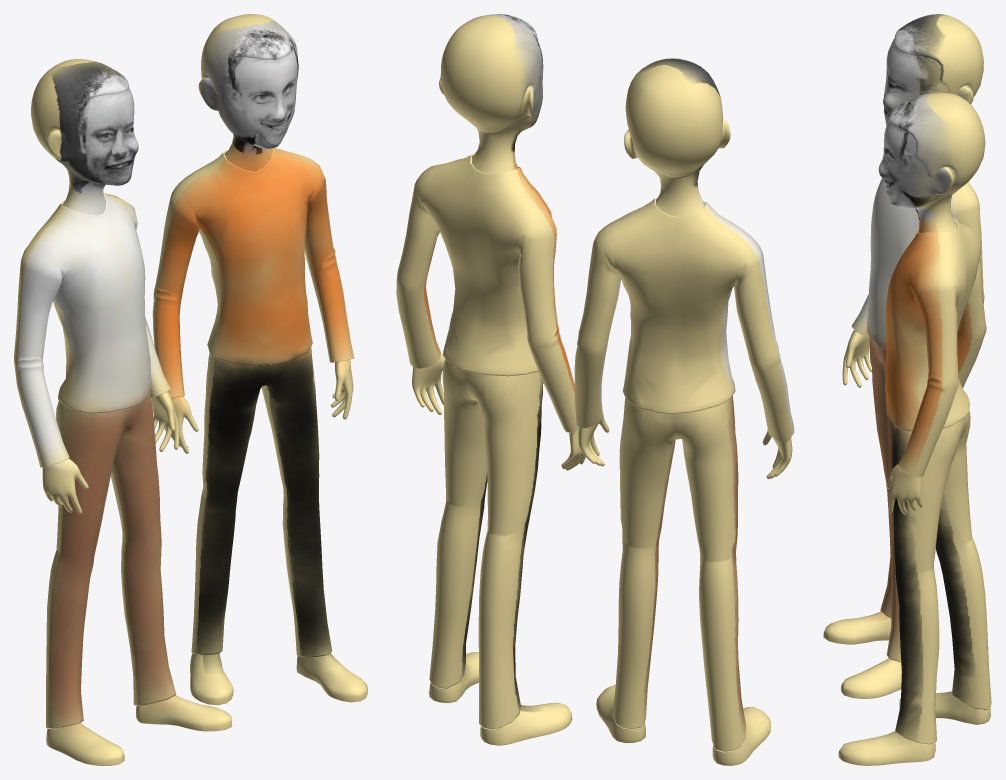
The model's file is watsoncrick.fbx.
3 renders of one model, left to right at view 1: azimuth 30°, elevation 25°; view 2: azimuth 150°, elevation 25°; view 3: azimuth 270°, elevation 25°, orthographic. The views are drawn at different scales.
Parts seen in each view (by area): view 1: root (×2); view 2: root (×2); view 3: root (×2).
Part boxes in pixels (box(x1,y1,x2,y2)): root (×2): box(14, 14, 367, 765); root (×2): box(396, 14, 794, 765); root (×2): box(823, 14, 991, 765).
Bounding box in the file's own units: 0.2824 × 0.5222 × 0.1253.
2 materials, 2 textured.
